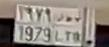1: (17, 5, 24, 41)
7: (35, 7, 42, 41)
9: (26, 5, 35, 42), (44, 7, 52, 43)
B: (74, 13, 83, 45)
L: (54, 10, 63, 44)
T: (64, 12, 72, 45)
